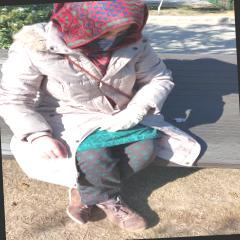gloved: (94, 106, 148, 134)
not-gloved: (33, 136, 68, 160)
